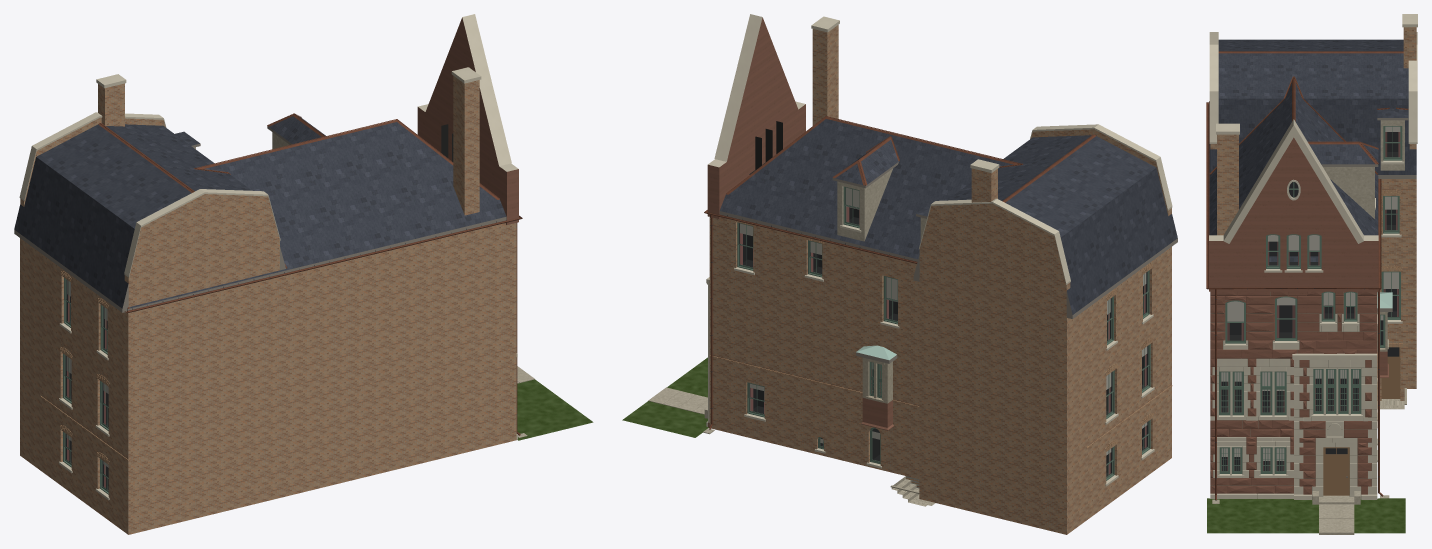
Rendered from house_1625_prairie__as_mapped_1904.glb.
The picture shows the model from 3 angles, left to right: view 1: azimuth 30°, elevation 25°; view 2: azimuth 150°, elevation 25°; view 3: azimuth 270°, elevation 25°; orthographic projection. The views are drawn at different scales.
Visible parts, largest first — view 1: house_1625_prairie__as_mapped_1904; view 2: house_1625_prairie__as_mapped_1904; view 3: house_1625_prairie__as_mapped_1904.
Boxes of the visible parts, box(x1,y1,x2,y2) form: house_1625_prairie__as_mapped_1904: box(14, 14, 593, 534); house_1625_prairie__as_mapped_1904: box(622, 14, 1177, 534); house_1625_prairie__as_mapped_1904: box(1206, 14, 1417, 534).
Size of the model in its own units: 23.53 by 19.45 by 9.64.
Materials: 28 (17 with a texture image).
